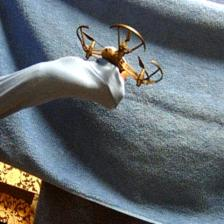drone: (77, 25, 164, 88)
